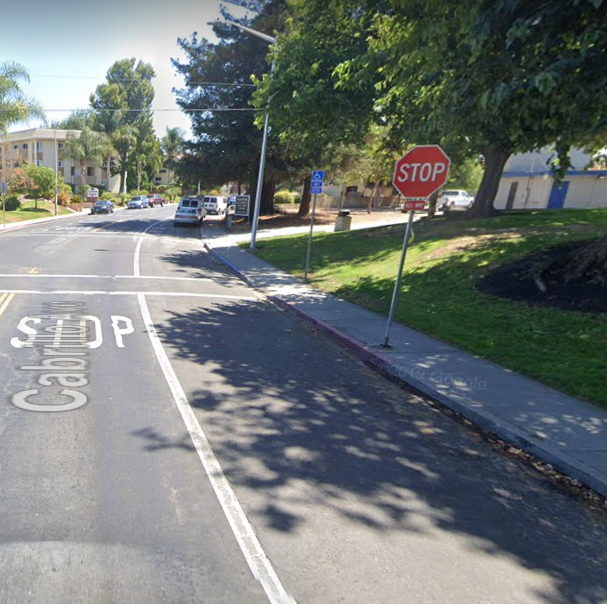stop_sign: (394, 146, 451, 196)
